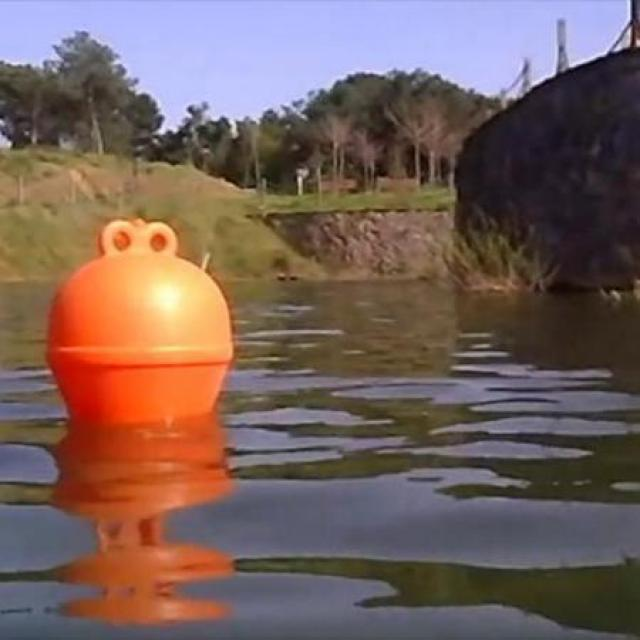buoy: (46, 220, 237, 429)
